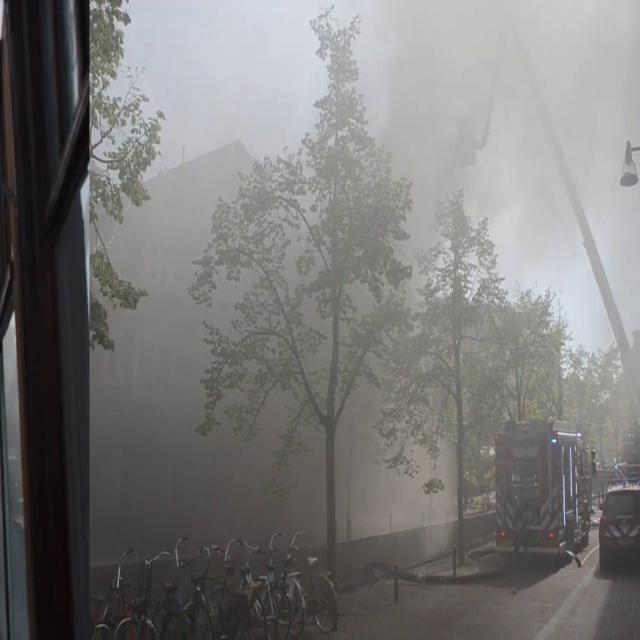Smoke: (89, 0, 608, 620)
